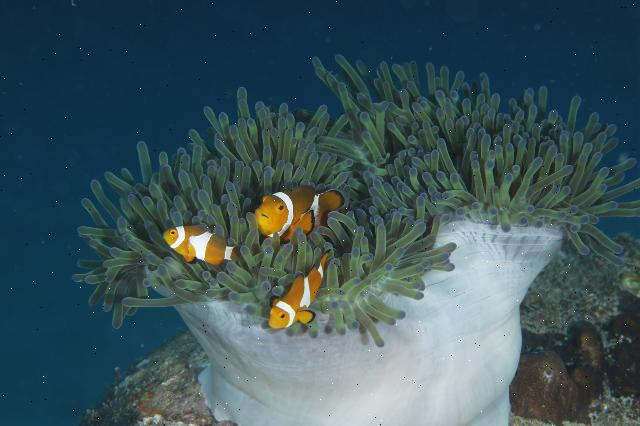Sirip Anal: (250, 206, 276, 234), (204, 257, 230, 271)
Sirip Dada: (293, 305, 333, 335), (288, 207, 320, 243), (179, 243, 201, 276), (258, 292, 284, 316)
Sirip Ekor: (318, 182, 350, 218), (316, 246, 340, 278)
Sirip Punggung: (282, 258, 328, 294), (187, 216, 233, 248)
